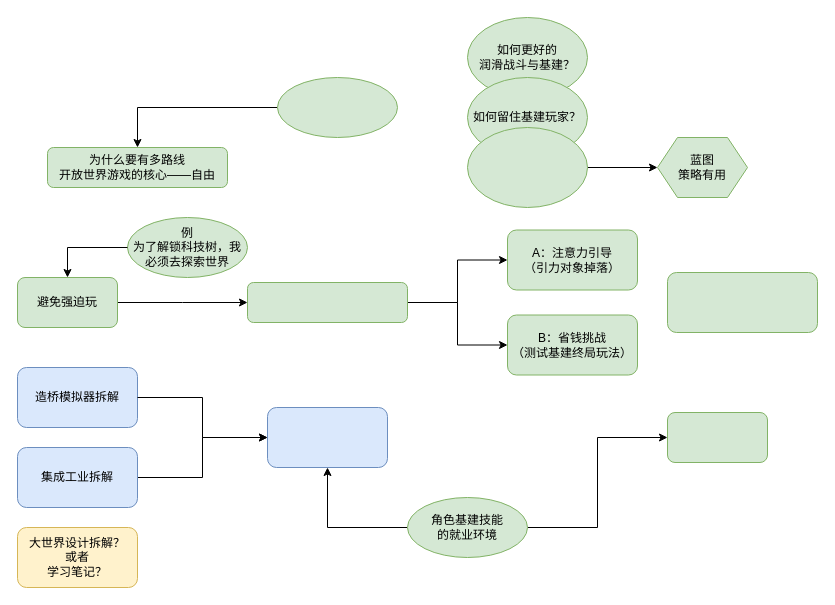
This 835x605 diagram has some shape labels left out. The box of each missing label's shape, as (x1, y1, x2, y2) in pixels:
[科技树解锁资源] 既可以挑战高难基建获得 又可以去探索大世界获得: (666, 272, 818, 332)
主观能动性 尽可能的延申: (276, 76, 398, 138)
基建终局/活动玩法: (266, 406, 388, 468)
如何避免策略战斗玩家被基建恶心到？: (466, 126, 588, 208)
将强迫玩家转换玩法改为: (246, 282, 408, 322)
链接商业化: (666, 412, 768, 462)
